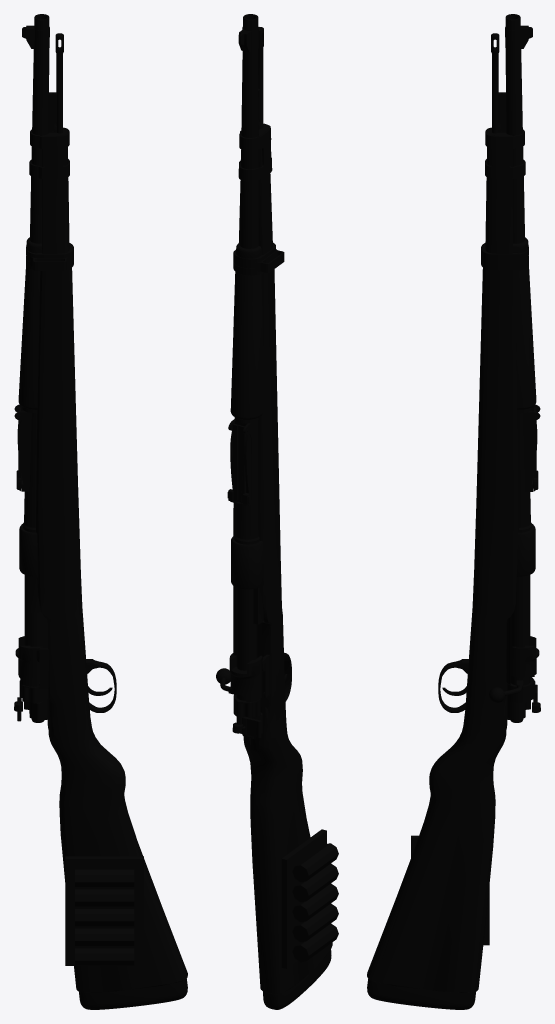
The model's file is Kar98k__ShellHolder_Butt.fbx.
3 views of the same model, side by side, from view 1: azimuth 90°, elevation 25°; view 2: azimuth 150°, elevation 25°; view 3: azimuth 270°, elevation 25° (orthographic).
Visible parts, largest first — view 1: asset_Kar98k.001; view 2: asset_Kar98k.001; view 3: asset_Kar98k.001.
Boxes of the visible parts, x1,y1,x2,y2 form: asset_Kar98k.001: (14, 14, 187, 1009); asset_Kar98k.001: (216, 14, 338, 1009); asset_Kar98k.001: (367, 14, 540, 1009).
Bounding box in the file's own units: 0.0573 × 0.666 × 0.1059.
